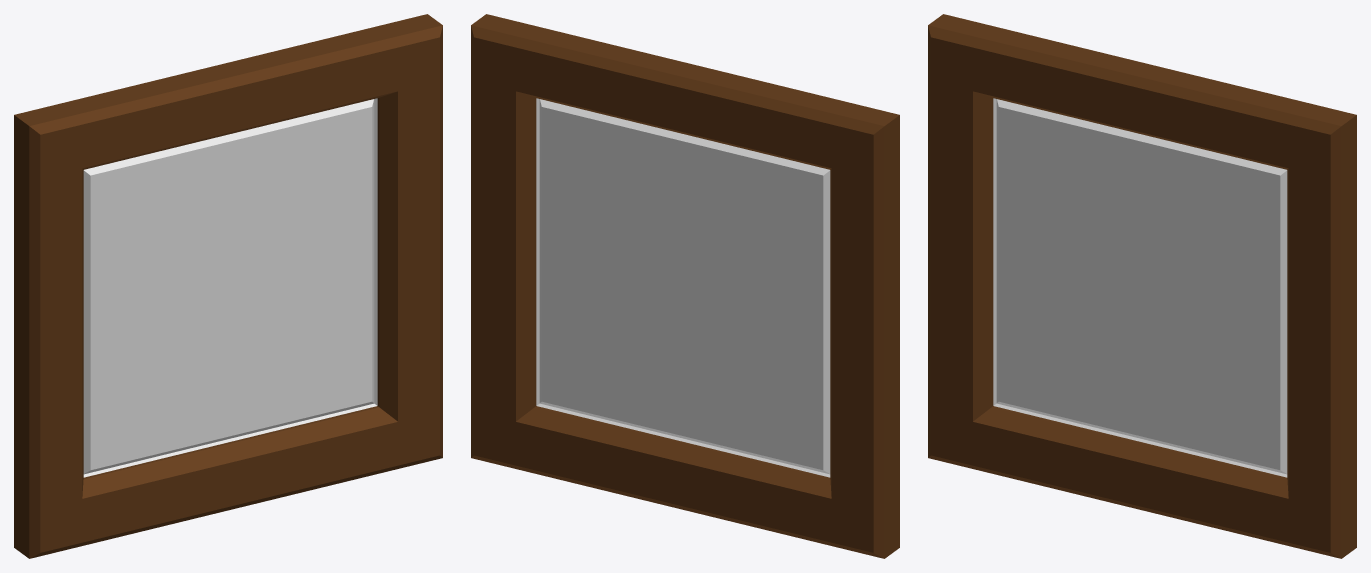
The model's file is Window.fbx.
The picture shows the model from 3 angles, left to right: view 1: azimuth 30°, elevation 25°; view 2: azimuth 150°, elevation 25°; view 3: azimuth 330°, elevation 25°; orthographic projection.
Parts seen in each view (by area): view 1: WindowWood, WindowGlass; view 2: WindowWood, WindowGlass; view 3: WindowWood, WindowGlass.
Boxes of the visible parts, left/top/right/bottom form: WindowWood: left=14, top=14, right=442, bottom=558; WindowGlass: left=83, top=98, right=377, bottom=477; WindowWood: left=471, top=14, right=899, bottom=558; WindowGlass: left=536, top=98, right=830, bottom=477; WindowWood: left=928, top=14, right=1356, bottom=558; WindowGlass: left=993, top=98, right=1287, bottom=477.
Size of the model in its own units: 200 by 200 by 19.7.
